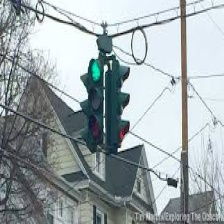semaforo: (87, 57, 104, 146)
